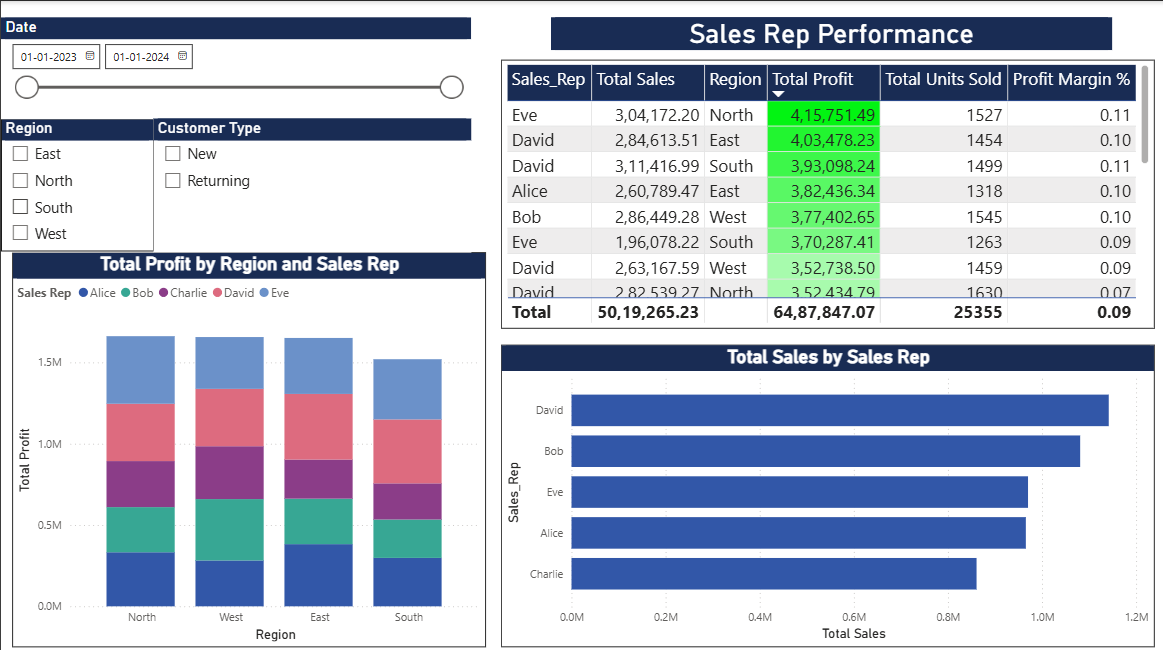

This screenshot's page, from the dashboard's own definition file:
{"tool":"powerbi","page":{"name":"Sales Rep Performance","canvas":[1280,720],"ordinal":2},"visuals":[{"type":"clusteredBarChart","title":"Total Sales by Sales Rep","fields":{"Category":["sales_data.Sales_Rep"],"Y":["sales_data.Total Sales"]},"box":[548.9,377.4,717.7,332.1],"z":0},{"type":"columnChart","title":"Total Profit by Region and Sales Rep","fields":{"Category":["sales_data.Region"],"Y":["sales_data.Total Profit"],"Series":["sales_data.Sales_Rep"]},"box":[12.3,275.8,520.1,433.6],"z":1000},{"type":"tableEx","fields":{"Values":["sales_data.Sales_Rep","sales_data.Total Sales","sales_data.Region","sales_data.Total Profit","sales_data.Total Units Sold","sales_data.Profit Margin %"]},"box":[548.9,64.5,717.7,295],"z":2000},{"type":"slicer","title":"Region","fields":{"Values":["sales_data.Region"]},"box":[0,129,167.4,146.8],"z":3000},{"type":"slicer","title":"Date","fields":{"Values":["sales_data.Sale_Date"]},"box":[0,17.8,516,111.1],"z":4000},{"type":"slicer","title":"Customer Type","fields":{"Values":["sales_data.Customer_Type"]},"box":[167.4,129,348.5,146.8],"z":5000},{"type":"textbox","title":"Sales Rep Performance","box":[603.8,17.8,616.1,35.7],"z":6000}]}

Visuals, with their boxes in screenshot pixels (x1, y1, x2, y2), scaled from the page's 1280x720 canvas onto the 1163x650 screenshot:
"Total Sales by Sales Rep" clusteredBarChart: Rect(499, 341, 1151, 641)
"Total Profit by Region and Sales Rep" columnChart: Rect(11, 249, 484, 640)
tableEx - sales_data.Sales_Rep x sales_data.Total Sales: Rect(499, 58, 1151, 325)
"Region" slicer: Rect(0, 116, 152, 249)
"Date" slicer: Rect(0, 16, 469, 116)
"Customer Type" slicer: Rect(152, 116, 469, 249)
"Sales Rep Performance" textbox: Rect(549, 16, 1108, 48)
